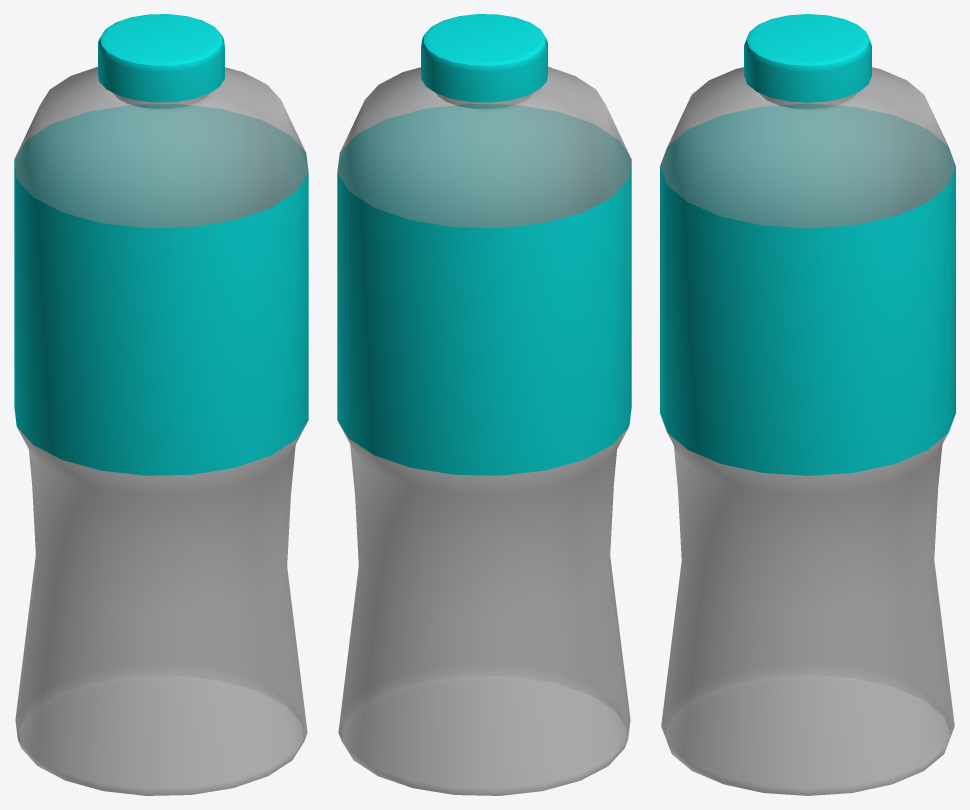
File: bottle.fbx
The picture shows the model from 3 angles, left to right: view 1: azimuth 30°, elevation 25°; view 2: azimuth 150°, elevation 25°; view 3: azimuth 270°, elevation 25°; orthographic projection.
Visible parts, largest first — view 1: Bottle; view 2: Bottle; view 3: Bottle.
Boxes of the visible parts, left/top/right/bottom form: Bottle: left=14, top=14, right=308, bottom=795; Bottle: left=337, top=14, right=631, bottom=795; Bottle: left=660, top=14, right=955, bottom=795.
Bounding box in the file's own units: 2 × 5.23 × 2.
